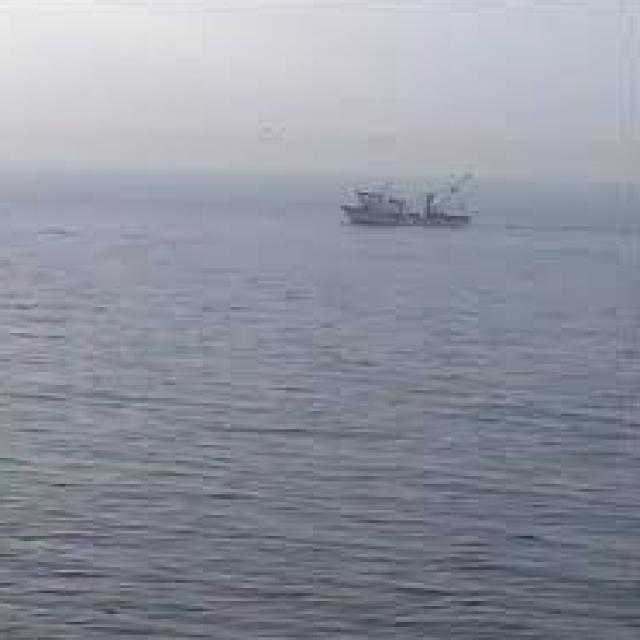fishing boat: (341, 171, 475, 227)
